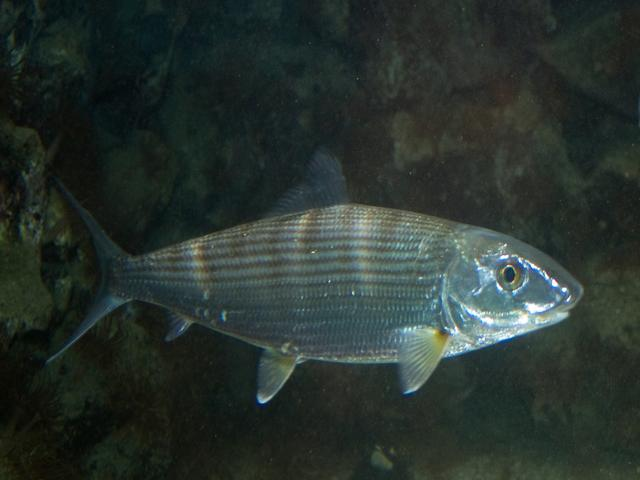fish: (15, 130, 614, 432)
